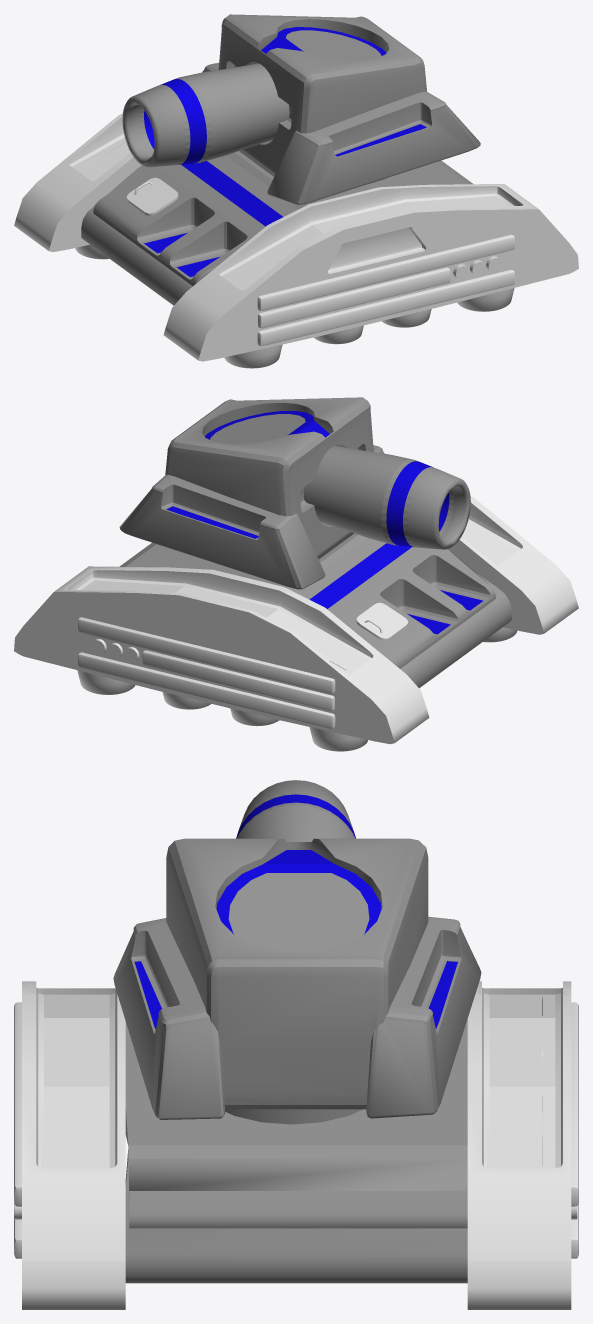
The model's file is Tank.FBX.
The picture shows the model from 3 angles, top to bottom: view 1: azimuth 30°, elevation 25°; view 2: azimuth 150°, elevation 25°; view 3: azimuth 270°, elevation 25°; orthographic projection. The views are drawn at different scales.
Visible parts, largest first — view 1: SideTracks, BarrelBody, Box001, Barrel, SideDetails, Thrusters, HealthBar3, Door, SideLights; view 2: SideTracks, BarrelBody, Box001, Barrel, SideDetails, Thrusters, HealthBar3, Door, SideLights; view 3: BarrelBody, Box001, SideTracks, HealthBar1, Barrel, HealthBar2, SideDetails, HealthBar3.
Part boxes in pixels (x1,y1,x2,y2): SideTracks: (14,113,578,361); BarrelBody: (202,14,480,204); Box001: (81,151,473,305); Barrel: (122,63,289,167); SideDetails: (82,154,514,346); Thrusters: (75,244,514,368); HealthBar3: (82,142,314,285); Door: (126,177,178,215); SideLights: (453,256,502,280); SideTracks: (14,496,578,744); BarrelBody: (119,397,384,589); Box001: (119,533,511,688); Barrel: (303,445,470,549); SideDetails: (78,617,335,728); Thrusters: (77,627,517,751); HealthBar3: (276,527,508,669); Door: (356,602,408,640); SideLights: (91,639,139,662); BarrelBody: (113,838,481,1124); Box001: (125,1019,467,1283); SideTracks: (22,981,571,1309); HealthBar1: (56,1096,541,1166); Barrel: (236,780,355,841); HealthBar2: (56,1025,541,1079); SideDetails: (14,1002,578,1258); HealthBar3: (56,997,541,1015).
Size of the model in its own units: 250 by 149 by 216.
